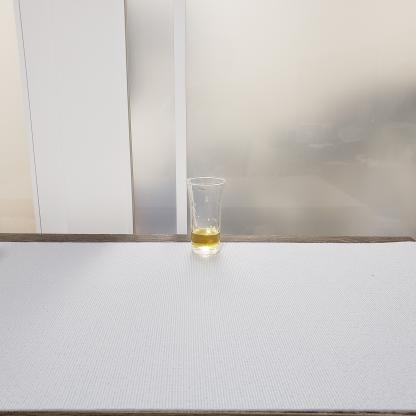glass: (181, 166, 238, 264)
